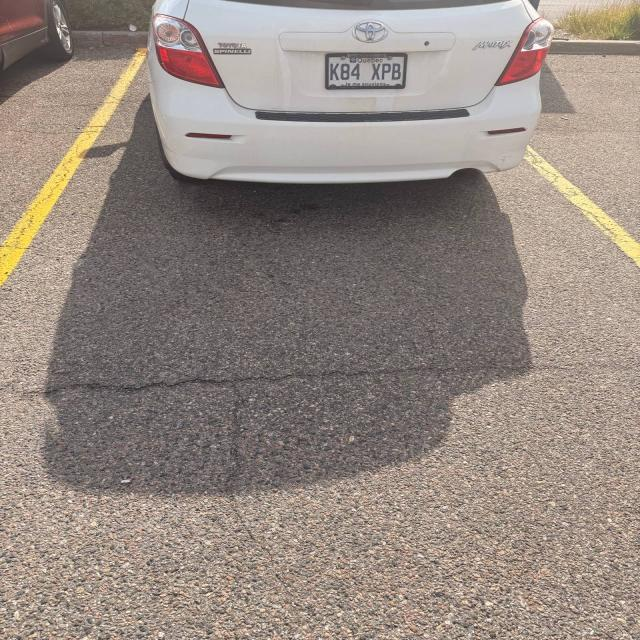plaque: (326, 53, 407, 89)
